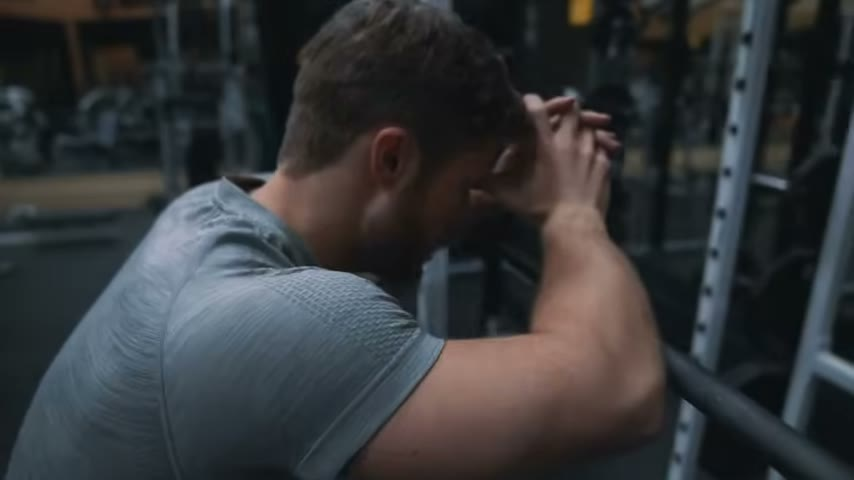barbell_plate_side: (0, 151, 201, 478)
